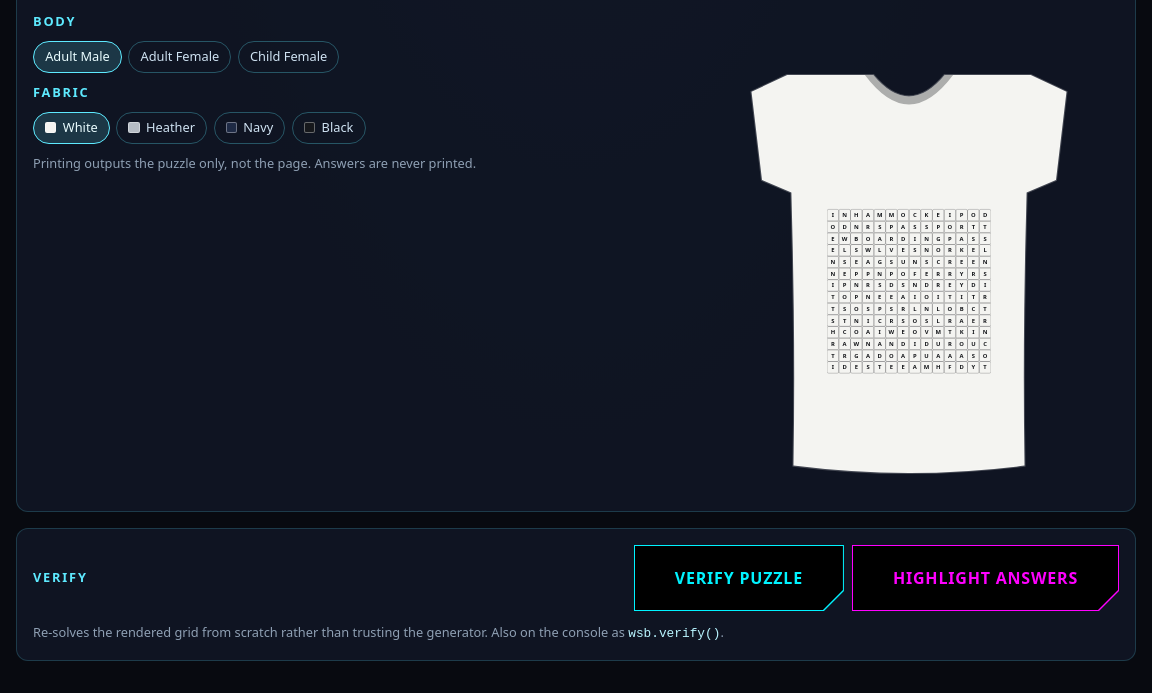
Test: the studio › verifies the generated puzzle and reports a pass
(page scrolled)
What coordinates should you click on to do the following:
click the button "Verify puzzle"
I would click on:
 (739, 578)
Its box is [635,546,843,610].
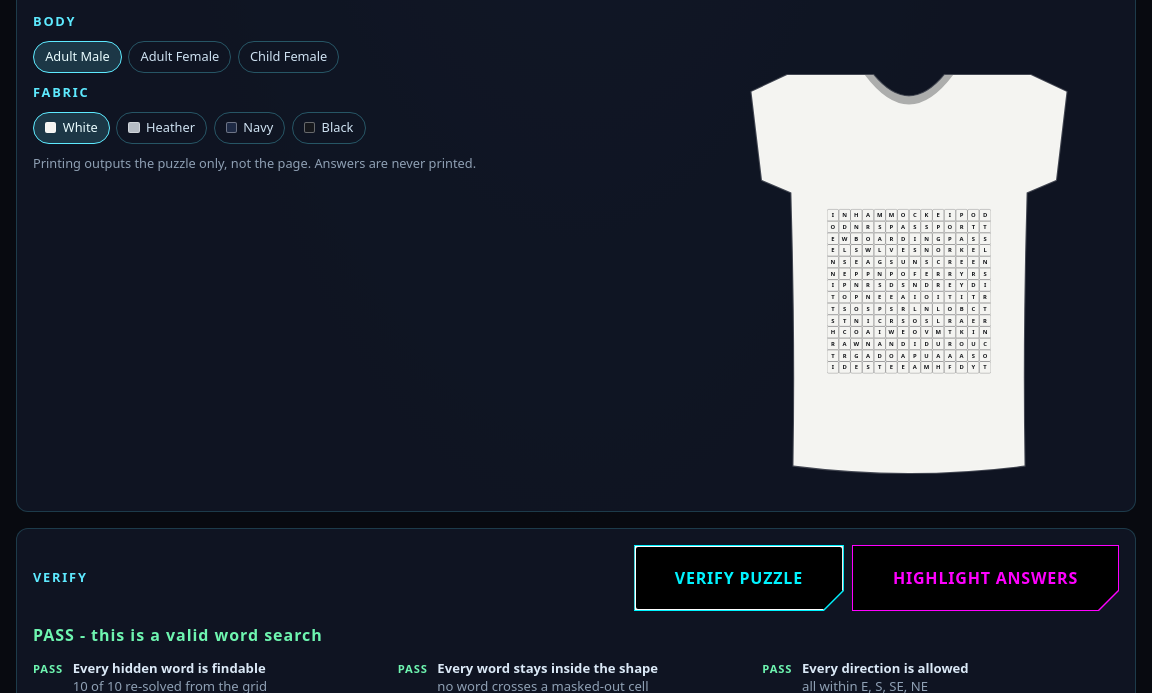
Check: the text "PASS - this is a valid word search" is shown, box [33,624,323,646]
Check: the text "Every hidden word is findable" is shown, box [73,659,267,678]
